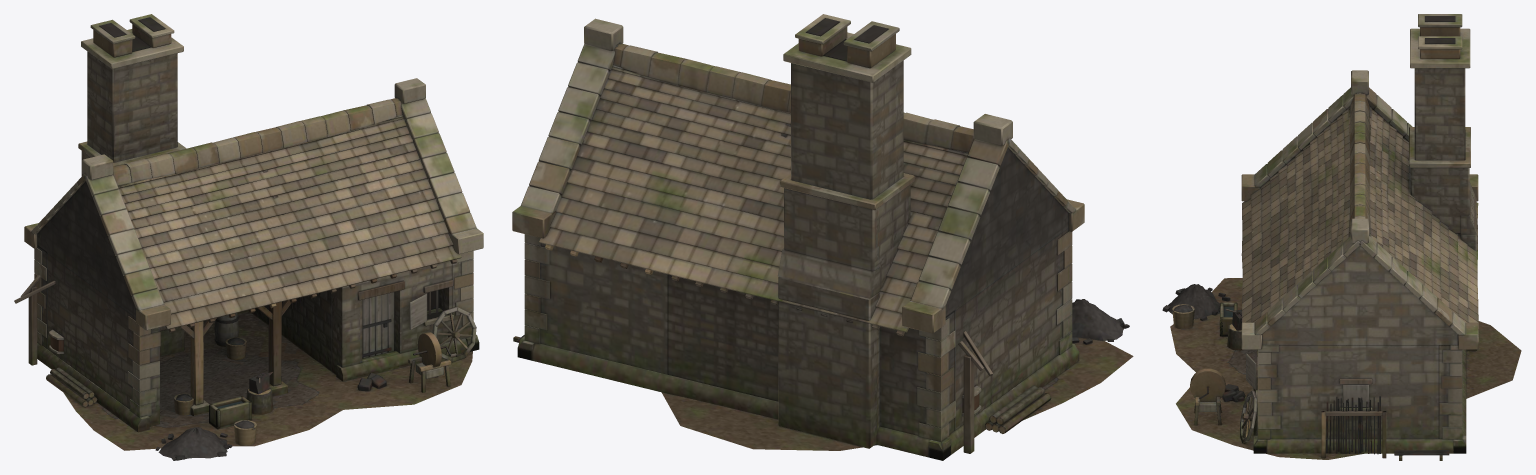
Rendered from blacksmith.glb.
3 views of the same model, side by side, from view 1: azimuth 30°, elevation 25°; view 2: azimuth 150°, elevation 25°; view 3: azimuth 270°, elevation 25° (orthographic). The views are drawn at different scales.
Parts seen in each view (by area): view 1: blacksmith_LOD0; view 2: blacksmith_LOD0; view 3: blacksmith_LOD0.
Boxes of the visible parts, <box> form: blacksmith_LOD0: <box>14,14,483,460</box>; blacksmith_LOD0: <box>512,14,1133,460</box>; blacksmith_LOD0: <box>1162,14,1521,460</box>.
Size of what is drawn, in the model's own units: 10.73 by 8.34 by 8.86.
1 material, 1 textured.
